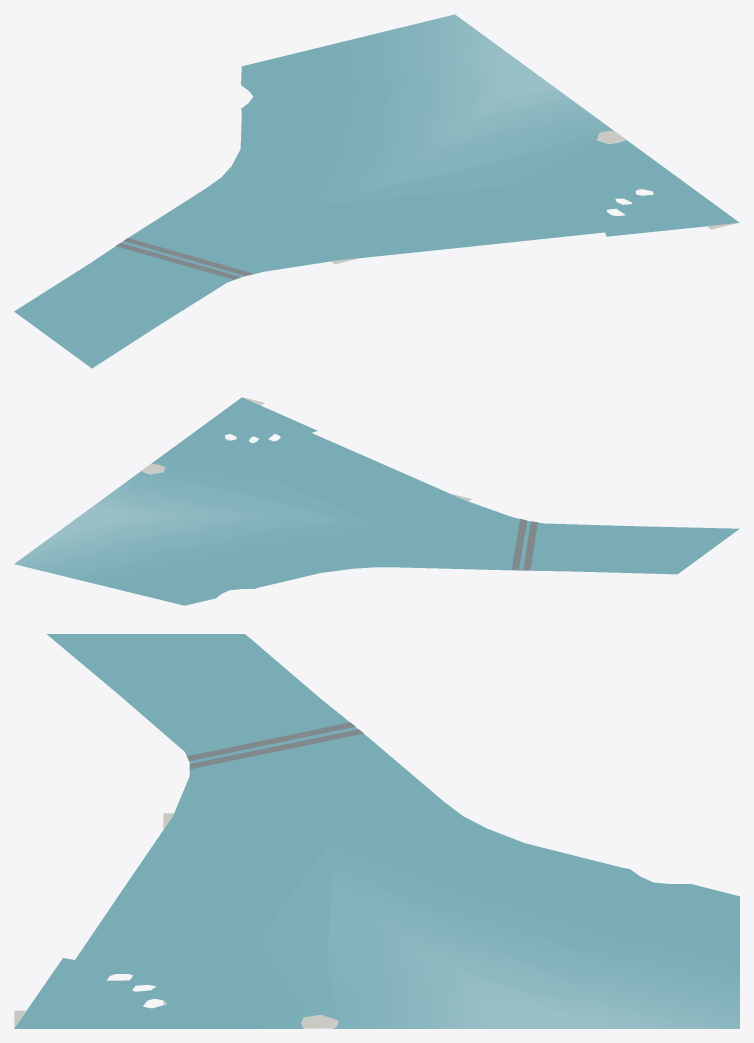
3 views of the same model, one above another, from view 1: azimuth 30°, elevation 25°; view 2: azimuth 150°, elevation 25°; view 3: azimuth 270°, elevation 25° (orthographic). The views are drawn at different scales.
Parts seen in each view (by area): view 1: city; view 2: city; view 3: city.
Boxes of the visible parts, x1,y1,x2,y2 form: city: (14,14,739,368); city: (14,397,739,605); city: (14,634,739,1028).
Size of the model in its own units: 500 by 0.24 by 388.
